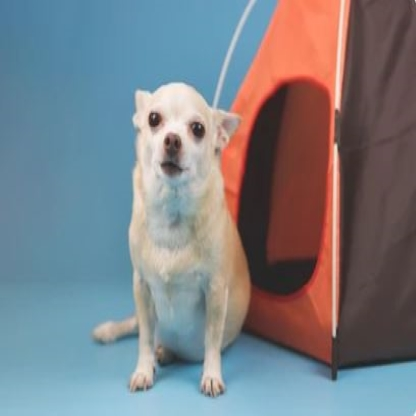chihuahua: (91, 79, 255, 401)
